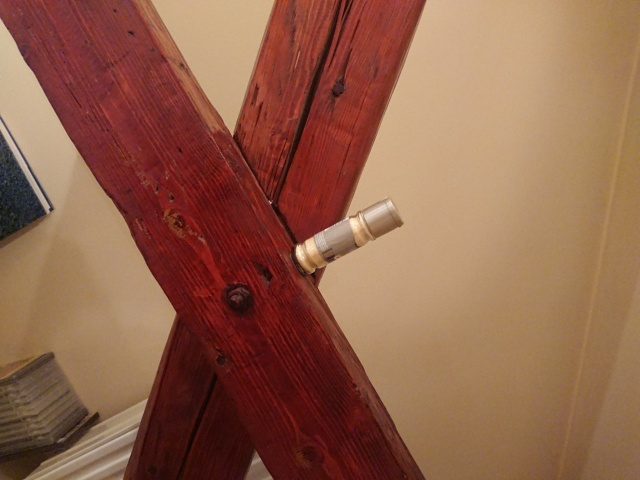Kotanyi Garlic Granules 70g: (289, 195, 407, 280)
